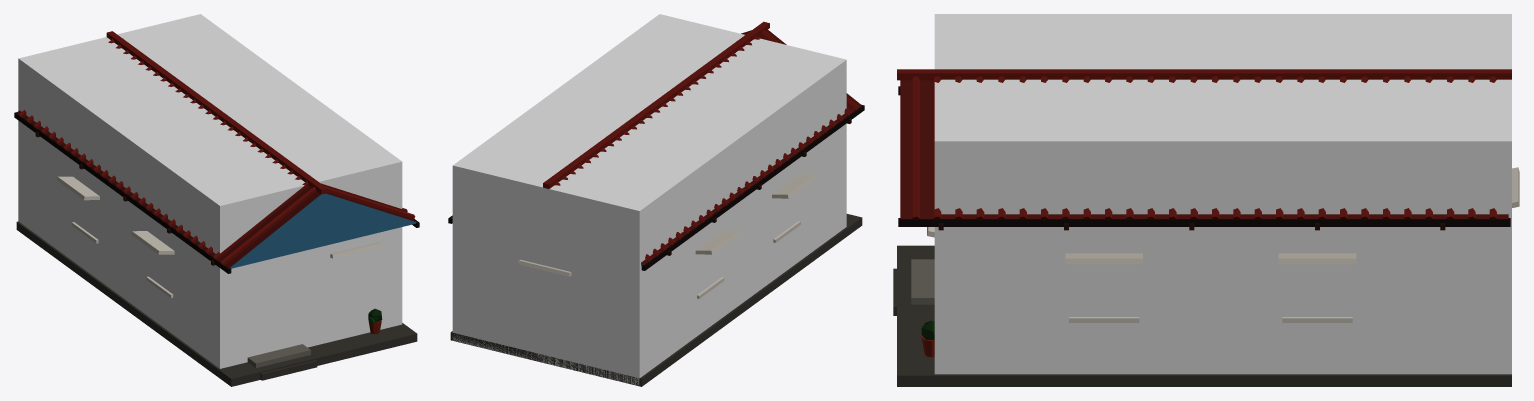
The model's file is CHN_016_worker_house.glb.
3 views of the same model, side by side, from view 1: azimuth 30°, elevation 25°; view 2: azimuth 150°, elevation 25°; view 3: azimuth 270°, elevation 25° (orthographic). The views are drawn at different scales.
Visible parts, largest first — view 1: COL_Main, LOD0; view 2: COL_Main, LOD0; view 3: COL_Main, LOD0.
Part boxes in pixels (x1,y1,x2,y2): COL_Main: (18,14,402,368); LOD0: (14,31,419,386); COL_Main: (452,14,846,385); LOD0: (448,21,864,386); COL_Main: (934,14,1511,374); LOD0: (893,69,1519,386).
Size of what is drawn, in the model's own units: 5.65 by 4.41 by 9.98.
